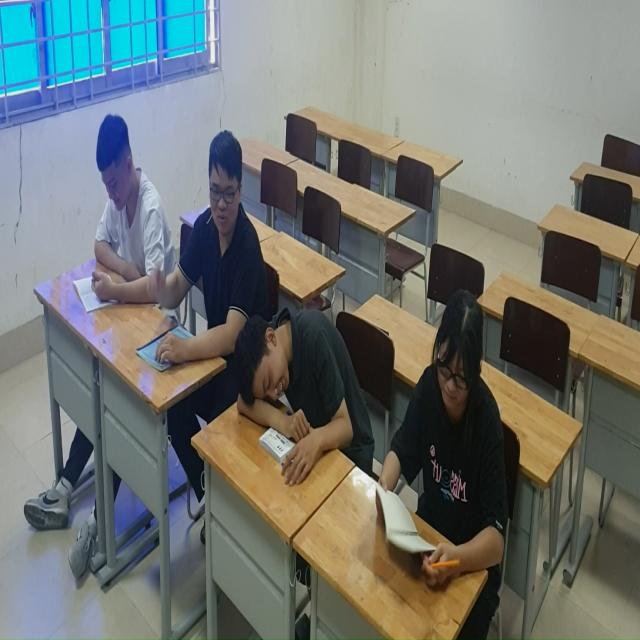read: (382, 289, 510, 592), (68, 113, 171, 334)
sleep: (233, 308, 375, 499)
